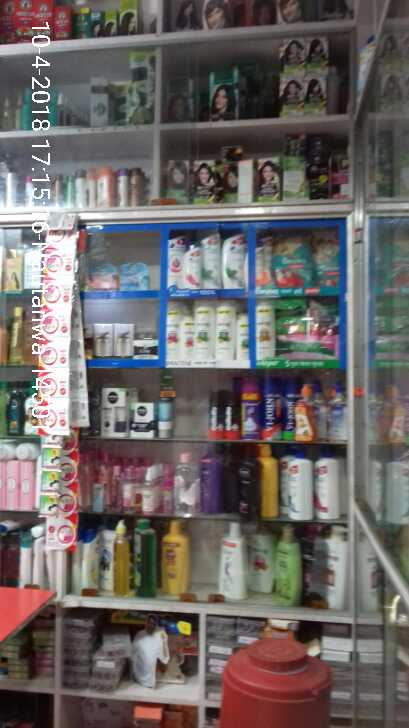gillete: (223, 391, 238, 438), (209, 391, 223, 438)
venus: (85, 261, 118, 290), (119, 263, 148, 291)
